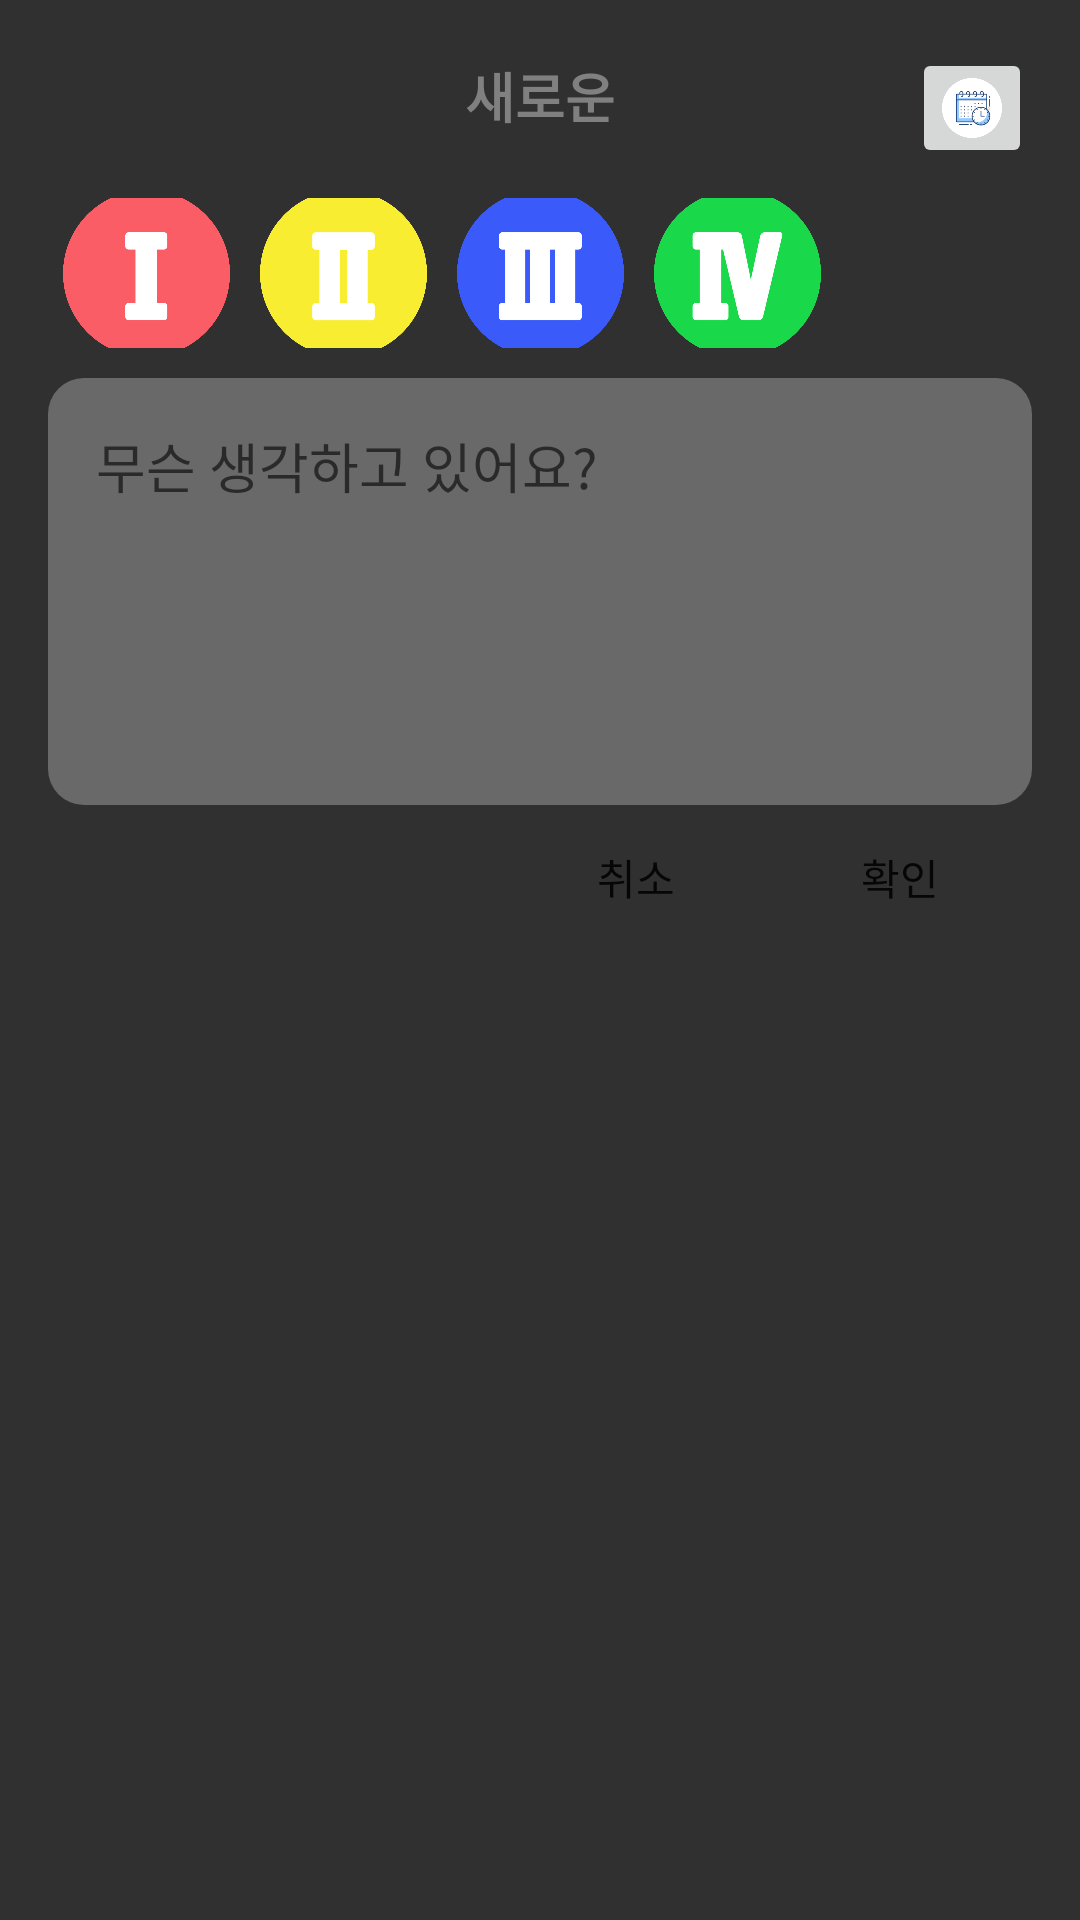

Named icons in this screenshot (1080 × 1920) and their bounding boxes, detection(x1, y1, x2, y2):
number: detection(63, 198, 230, 348), detection(260, 198, 427, 348), detection(457, 198, 624, 348), detection(654, 198, 821, 348)
plan: detection(924, 66, 1020, 150)
